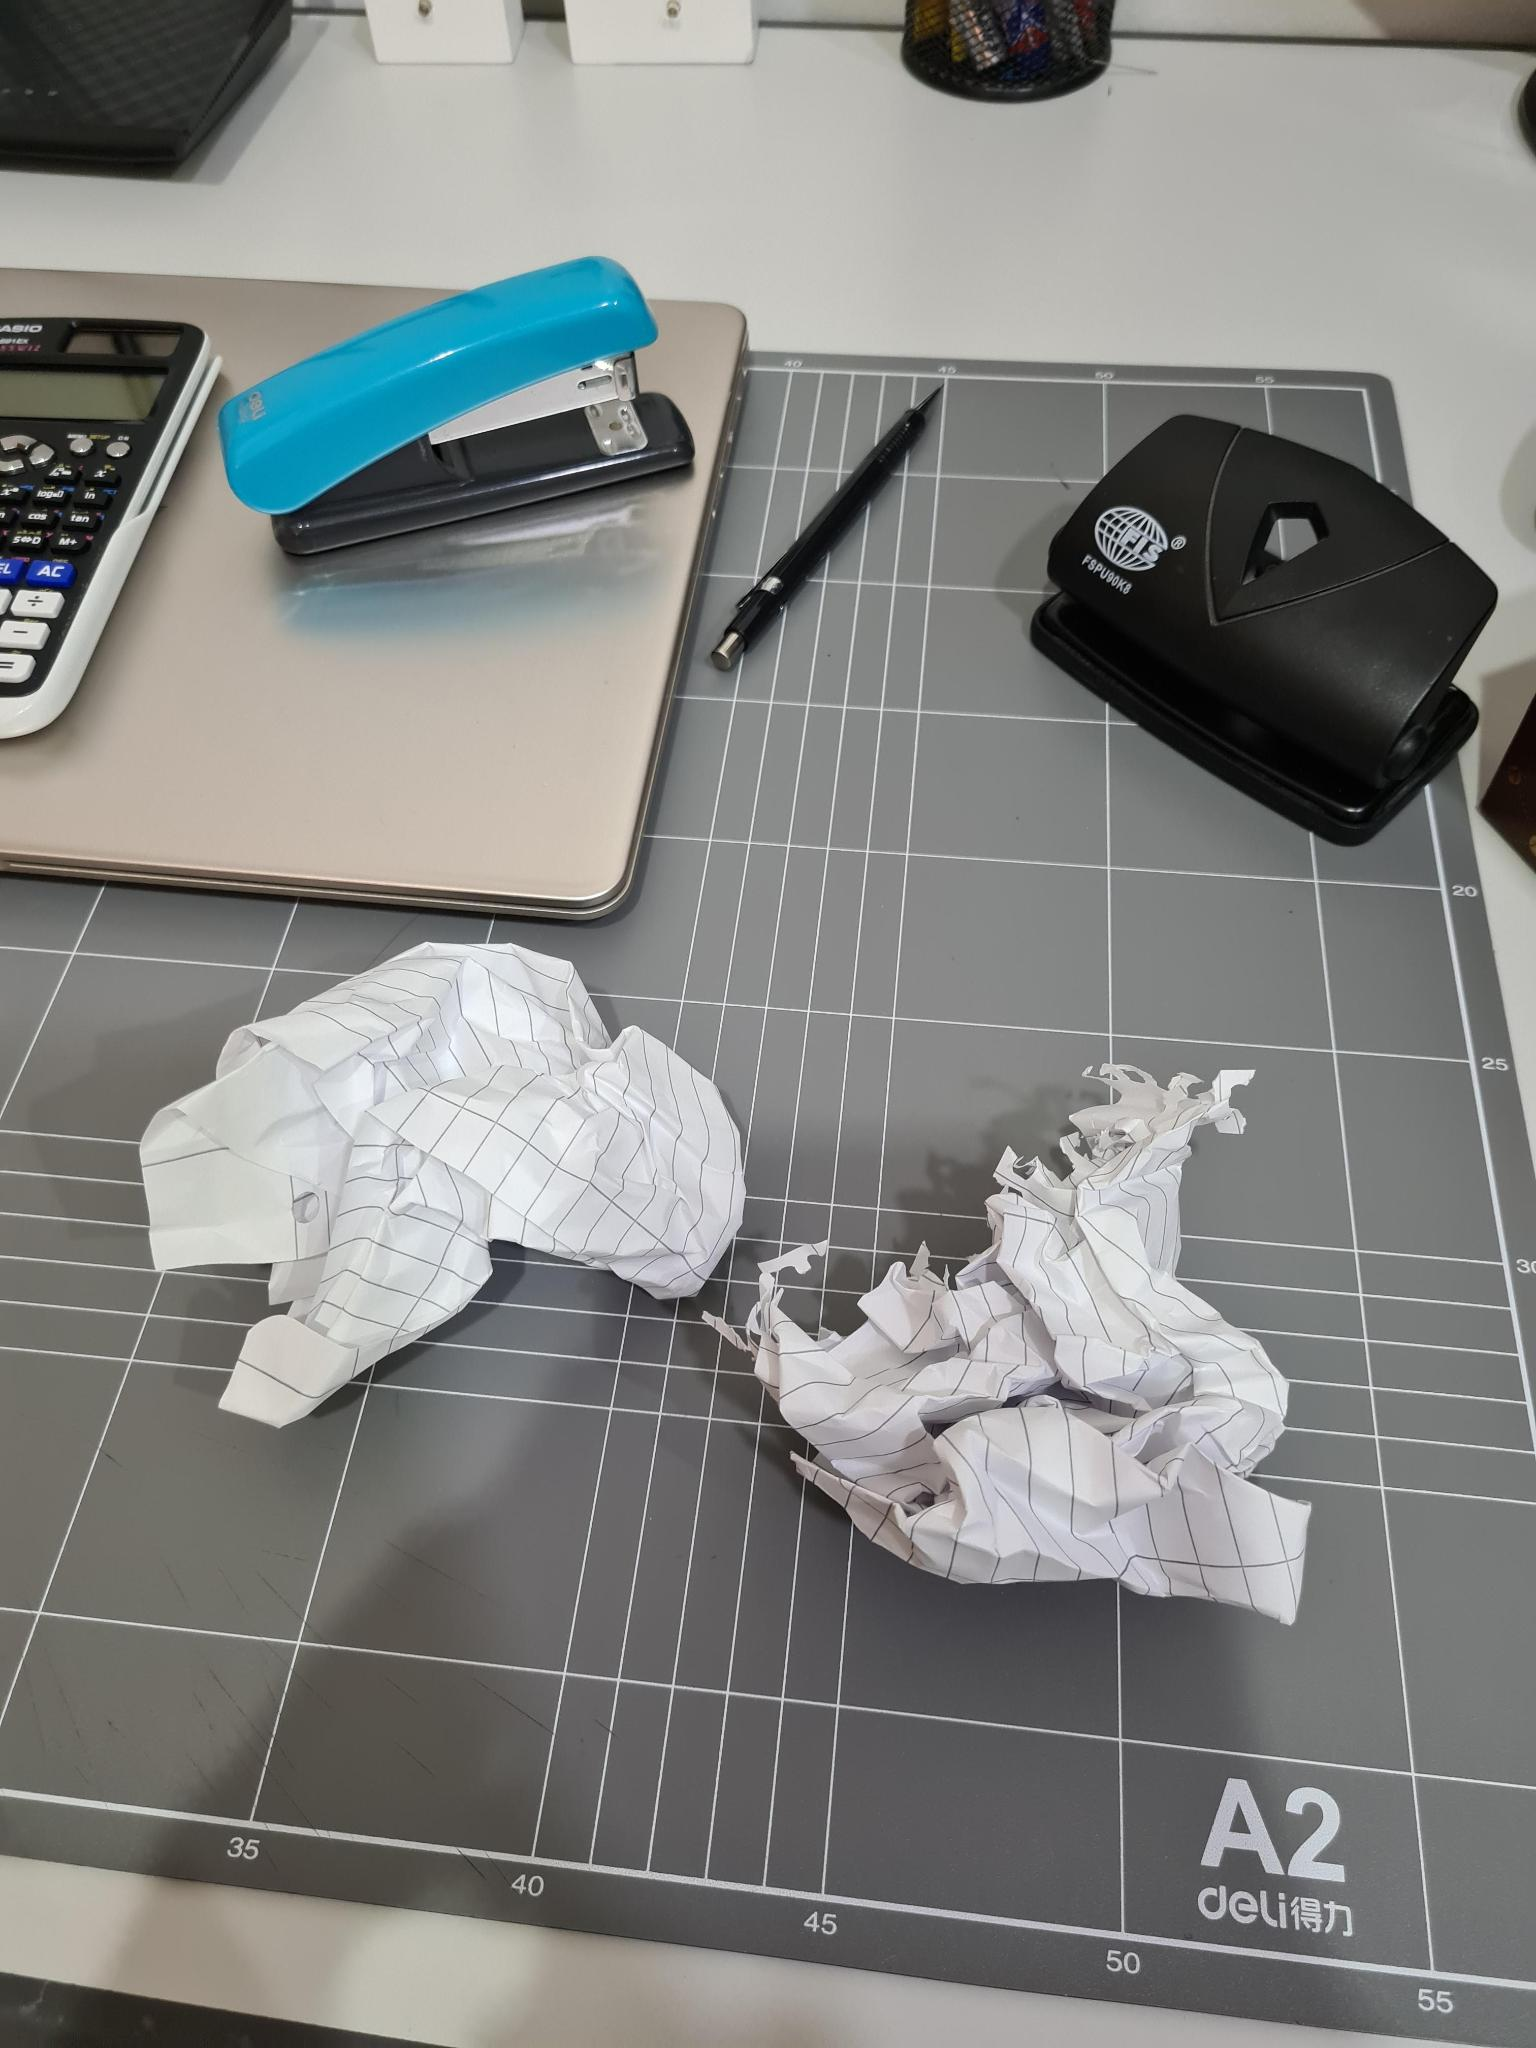metal: (902, 0, 1113, 100)
paper: (712, 1064, 1309, 1621), (140, 943, 744, 1426)
plastic: (0, 268, 744, 916)
